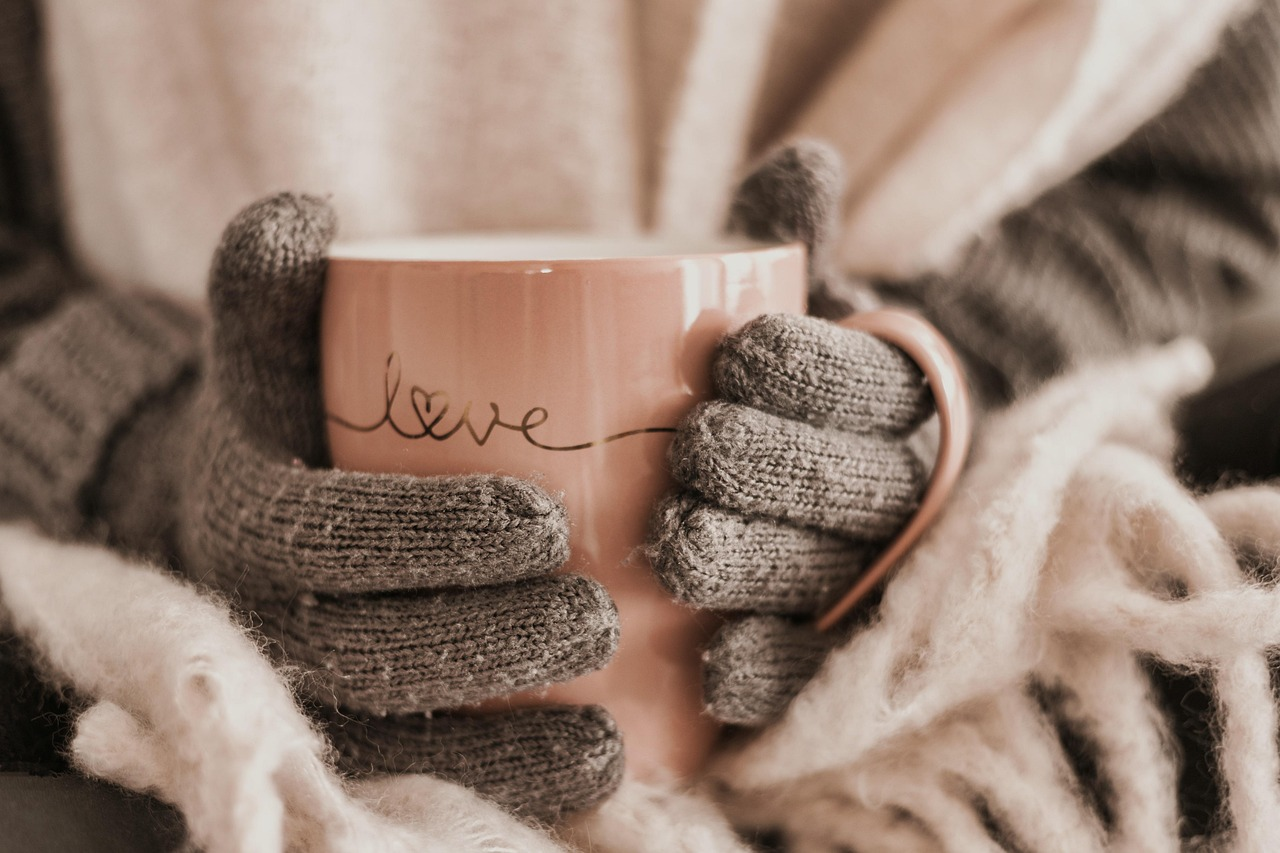mug: (280, 175, 1013, 798)
